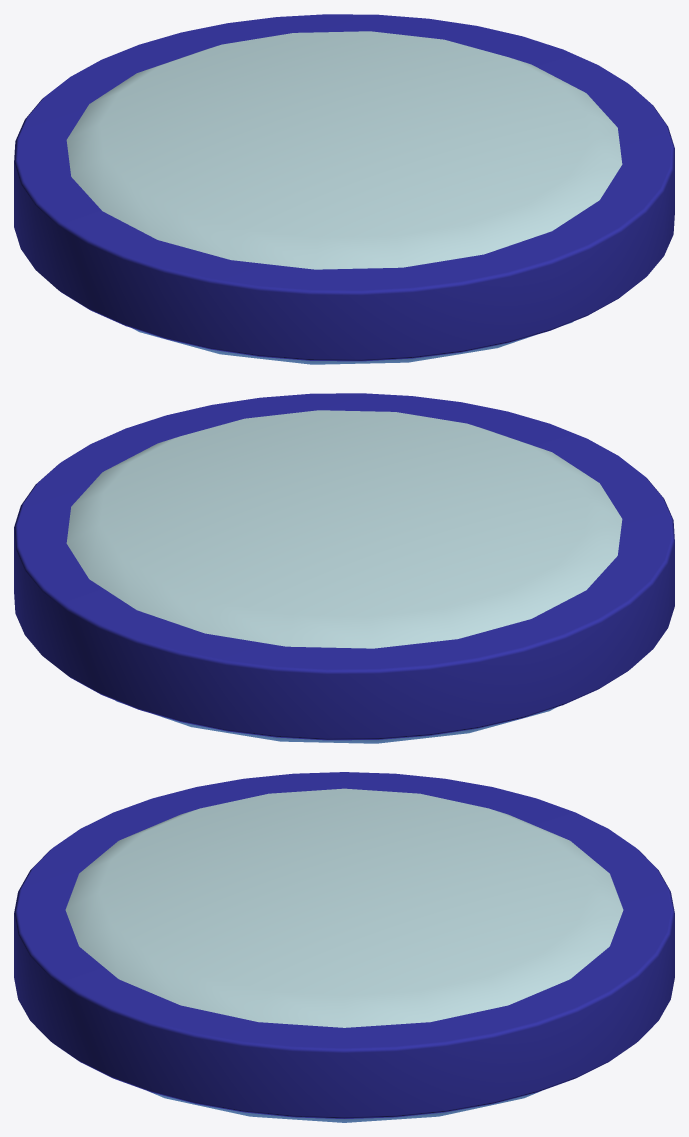
Rendered from stage.fbx.
The picture shows the model from 3 angles, top to bottom: view 1: azimuth 30°, elevation 25°; view 2: azimuth 150°, elevation 25°; view 3: azimuth 270°, elevation 25°; orthographic projection.
Parts seen in each view (by area): view 1: pCylinder3; view 2: pCylinder3; view 3: pCylinder3.
Part boxes in pixels (box(x1,y1,x2,y2)): pCylinder3: box(14, 14, 674, 364); pCylinder3: box(14, 393, 674, 743); pCylinder3: box(14, 772, 674, 1122).
Size of the model in its own units: 1.34 by 0.227 by 1.34.
